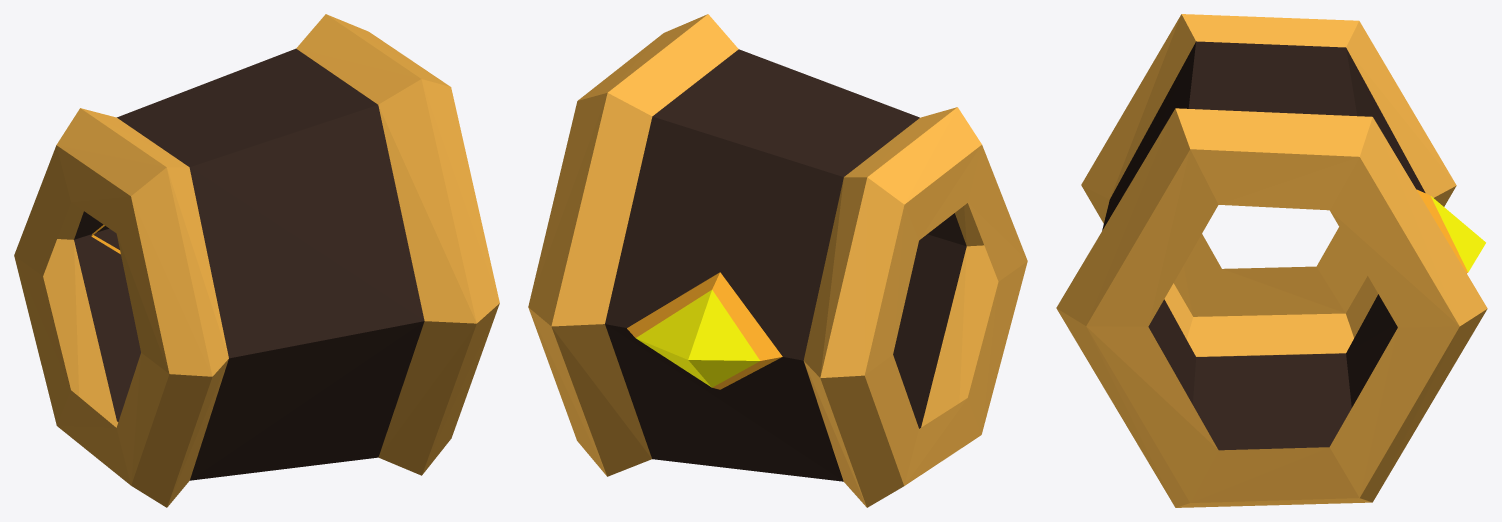
File: Bracer 02.FBX
3 renders of one model, left to right at view 1: azimuth 30°, elevation 25°; view 2: azimuth 150°, elevation 25°; view 3: azimuth 270°, elevation 25°, orthographic.
Parts seen in each view (by area): view 1: Bracer 02; view 2: Bracer 02; view 3: Bracer 02.
Boxes of the visible parts, x1,y1,x2,y2 form: Bracer 02: [14, 14, 499, 507]; Bracer 02: [528, 14, 1027, 507]; Bracer 02: [1056, 14, 1487, 507].
Bounding box in the file's own units: 15.03 × 17.07 × 17.44.
1 material, 1 textured.
